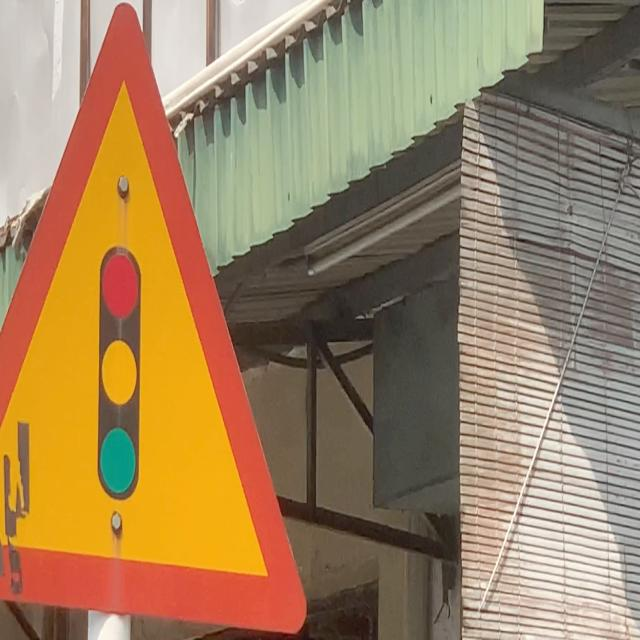Nguy hiem: (0, 0, 310, 640)
